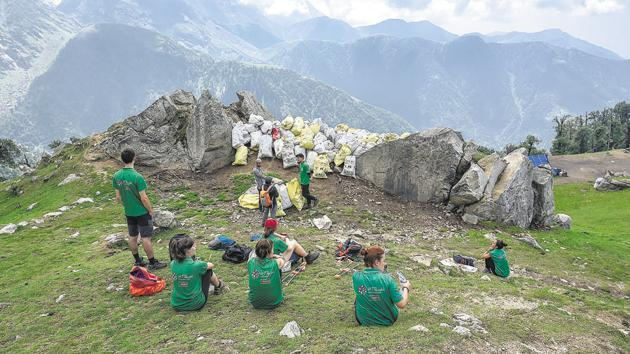garbage: (217, 100, 434, 209)
